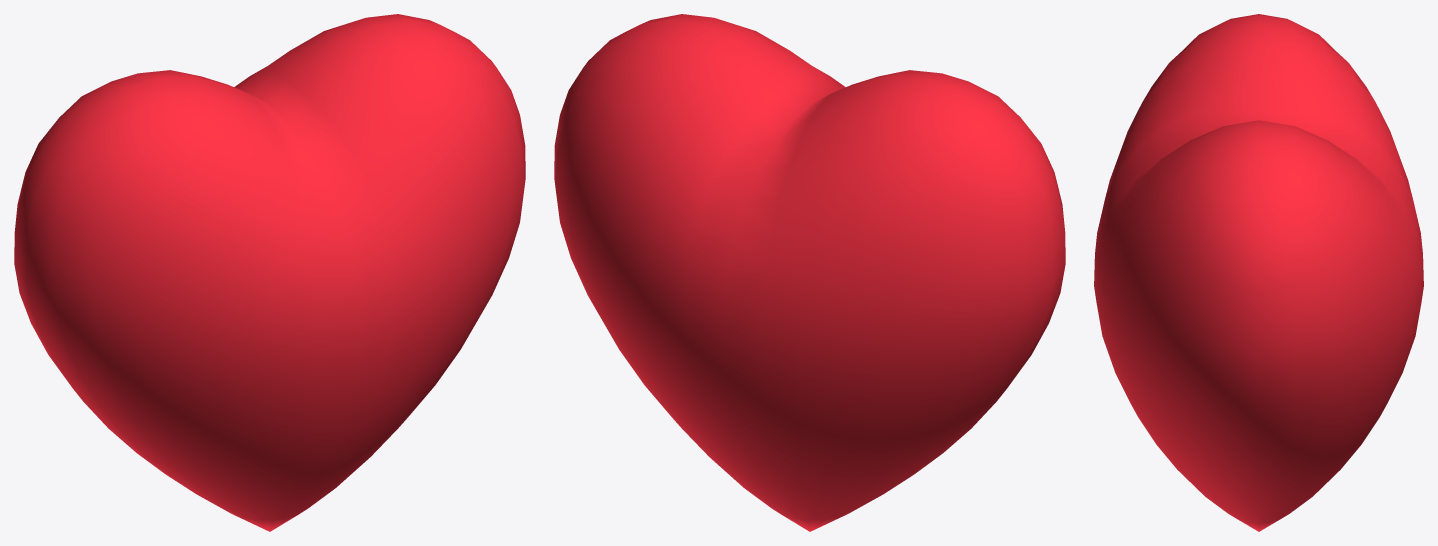
The model's file is Heart.fbx.
3 views of the same model, side by side, from view 1: azimuth 30°, elevation 25°; view 2: azimuth 150°, elevation 25°; view 3: azimuth 270°, elevation 25° (orthographic). The views are drawn at different scales.
Parts seen in each view (by area): view 1: Heart; view 2: Heart; view 3: Heart.
Boxes of the visible parts, x1,y1,x2,y2 form: Heart: (14,14,525,531); Heart: (554,14,1065,531); Heart: (1094,14,1423,531).
Size of the model in its own units: 132 by 124 by 82.13.
Materials: 1 (1 with a texture image).
